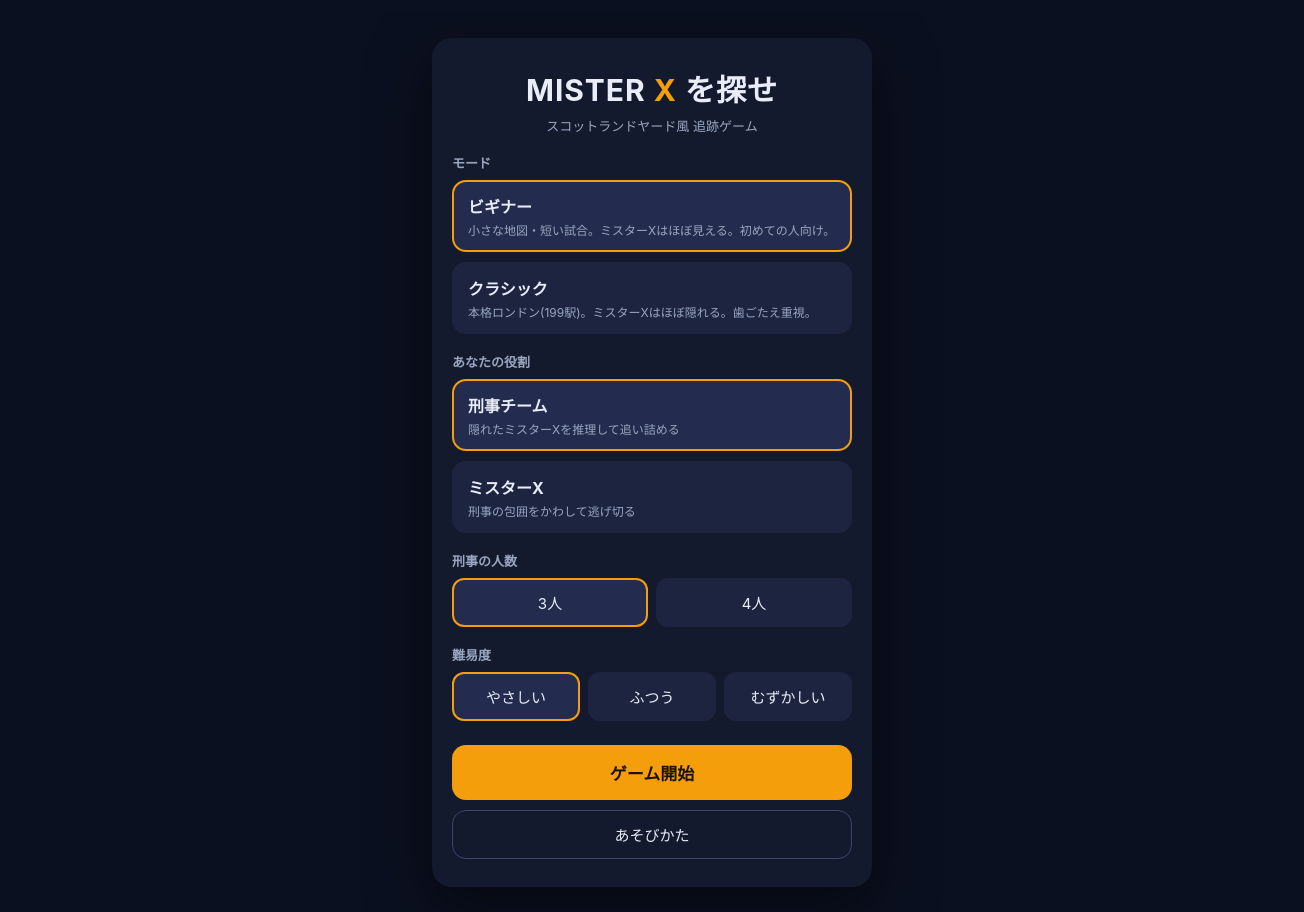
Test case: App smoke test (jsdom) › starts a Mr X game and renders the board + HUD without crashing
Click the text "ミスターX": click(506, 486) [468, 474, 544, 498]
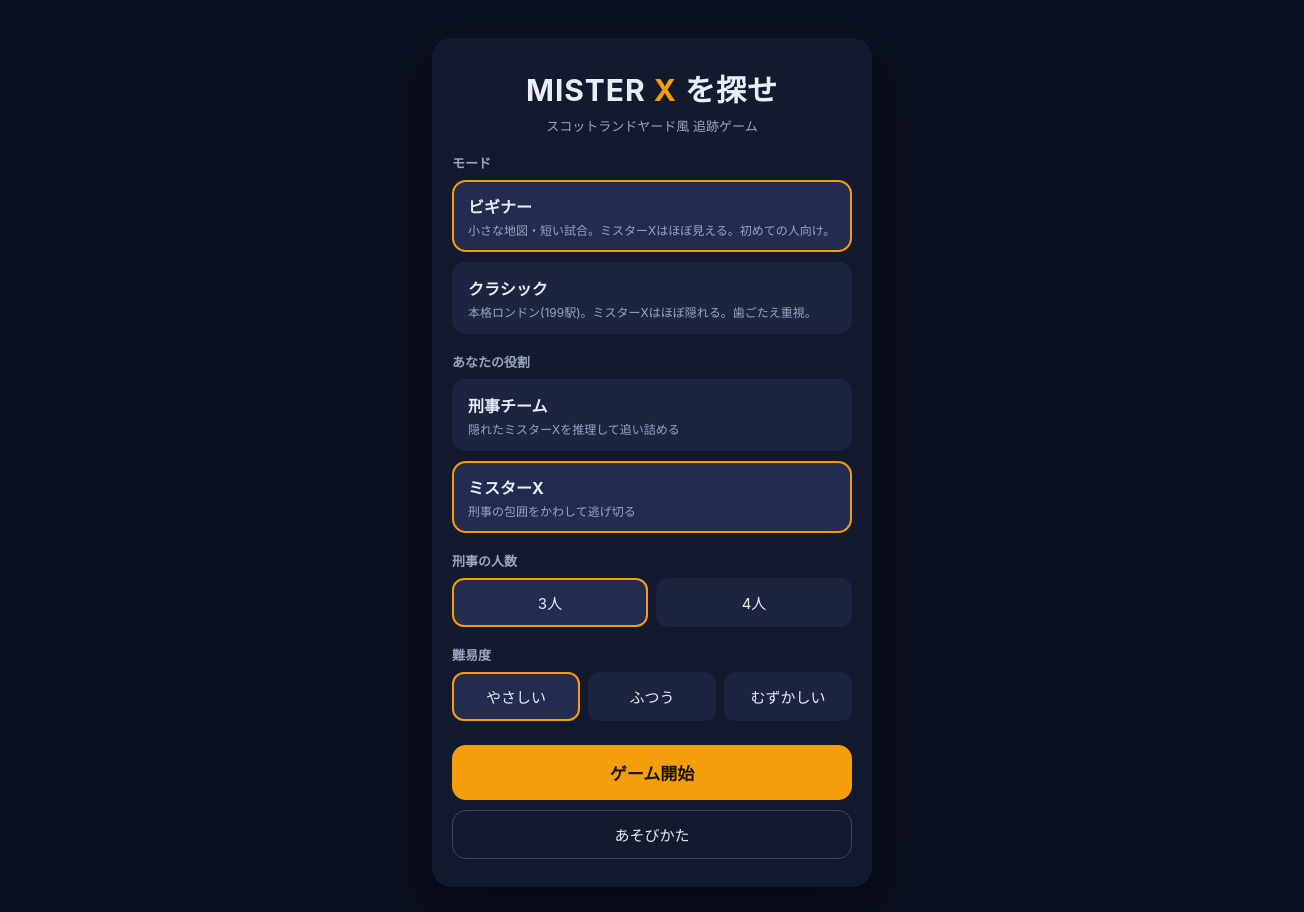
Click the button "ゲーム開始": click(652, 772) [452, 744, 852, 800]
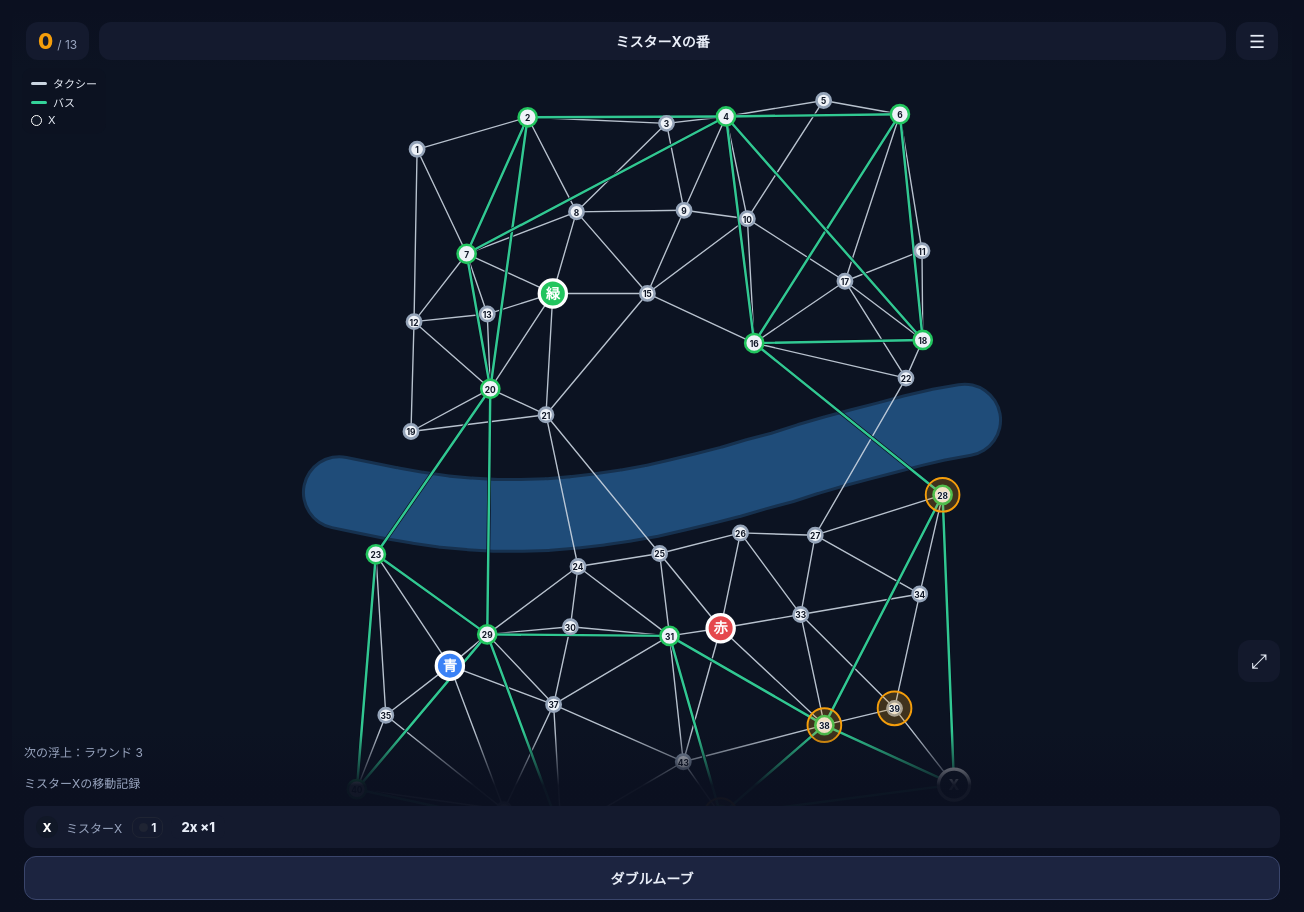
Expected: the icon with class "board-svg" is shown
Expected: the text "/ 13" is shown, [57, 37, 77, 52]
Expected: the text "ミスターXの番" is shown, [99, 22, 1226, 60]
